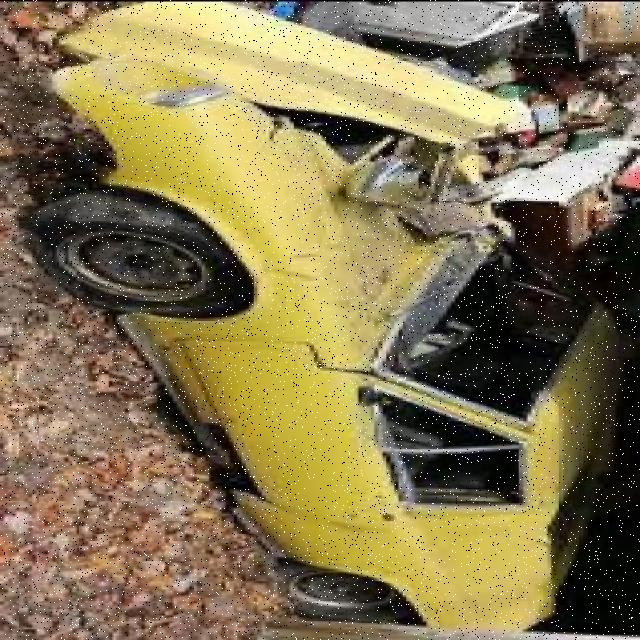damage: (42, 0, 512, 367)
